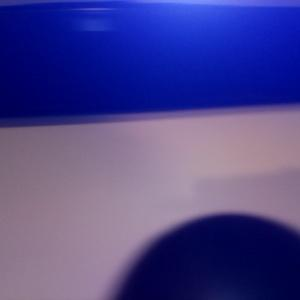dead_ball: (111, 213, 300, 300)
